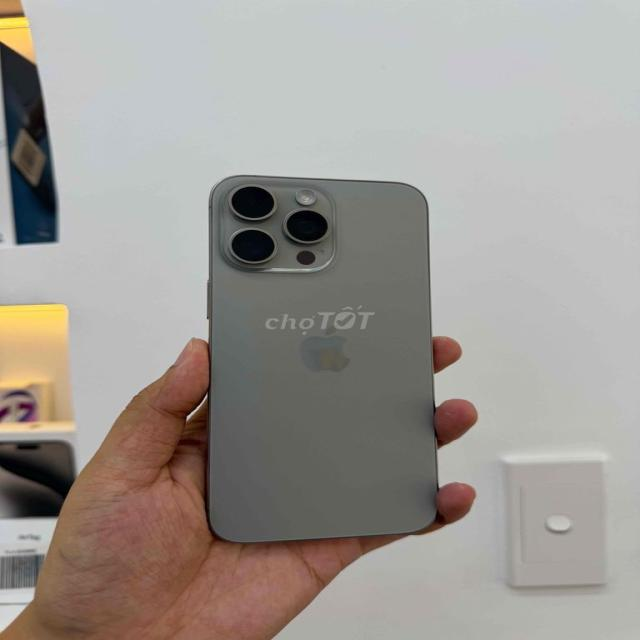gen_15: (193, 168, 455, 562)
